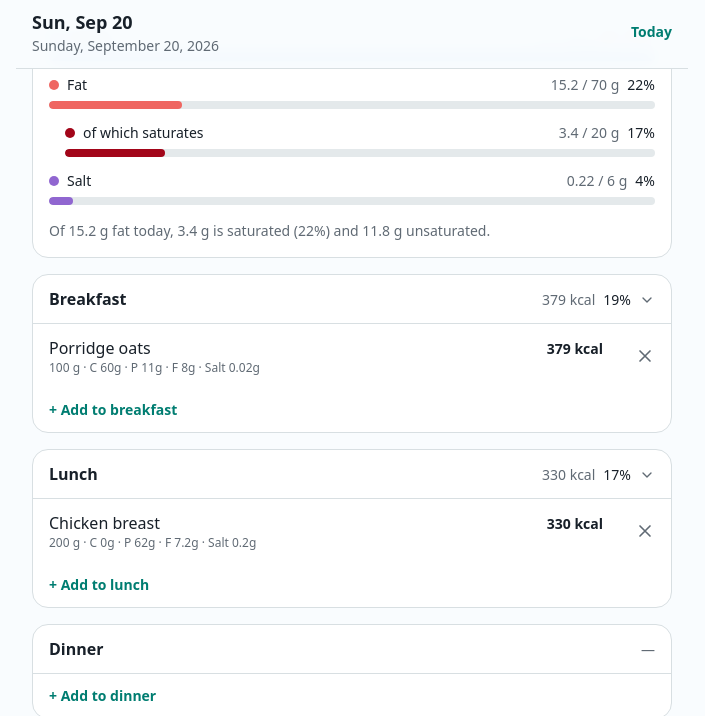
TodayPage › removes an entry only after the removal is confirmed
The image size is (705, 716).
(page scrolled)
Click the button named "Remove Porridge oats". click: (645, 356)
box: x1=627 y1=338 x2=663 y2=374
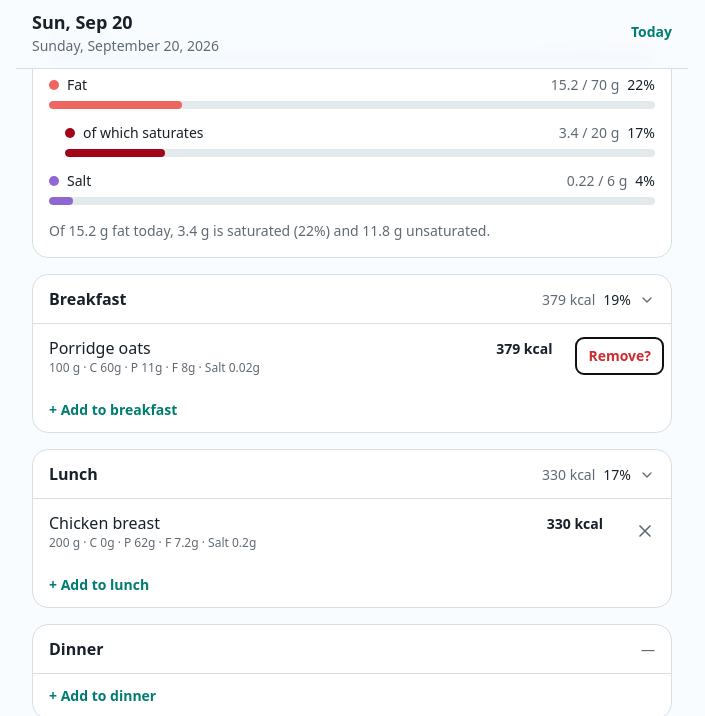
Expected: the text "Porridge oats" is shown, x1=49 y1=336 x2=151 y2=360
Click the button with aria-label "Confirm removing Porridge oats". click: (620, 356)
box: x1=576 y1=338 x2=663 y2=374
(page scrolled)
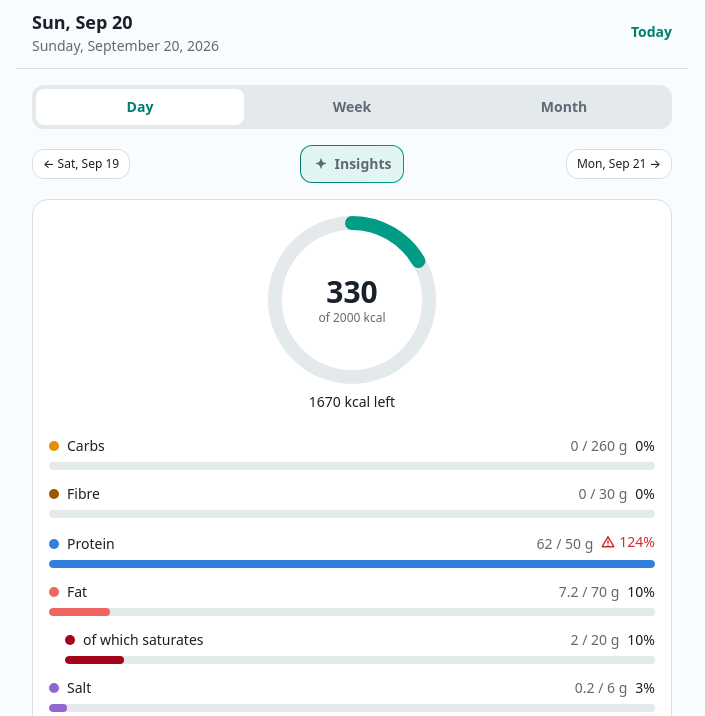
Expected: the link "Porridge oats" is gone
Expected: the text "330" is shown, x1=326 y1=274 x2=378 y2=310
